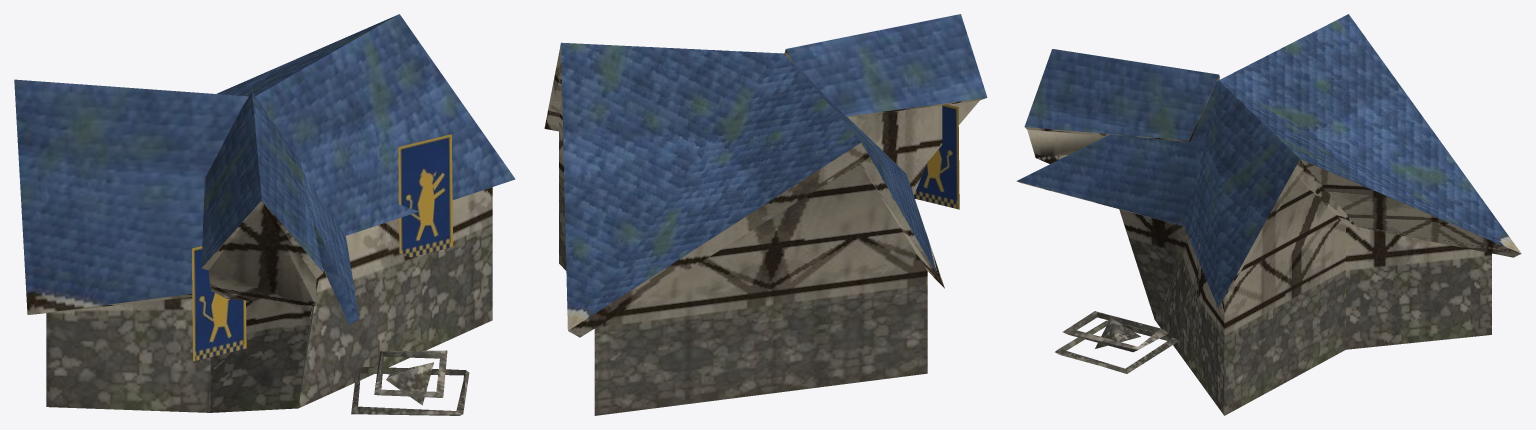
File: house_15_card_lod1.glb
3 renders of one model, left to right at view 1: azimuth 30°, elevation 25°; view 2: azimuth 150°, elevation 25°; view 3: azimuth 270°, elevation 25°, orthographic. The views are drawn at different scales.
Parts seen in each view (by area): view 1: house_15_game_card; view 2: house_15_game_card; view 3: house_15_game_card.
Part boxes in pixels (x1,y1,x2,y2): house_15_game_card: (14, 14, 515, 415); house_15_game_card: (544, 14, 987, 415); house_15_game_card: (1016, 14, 1521, 415).
Bounding box in the file's own units: 12.06 × 7.24 × 13.7.
Materials: 1 (1 with a texture image).
